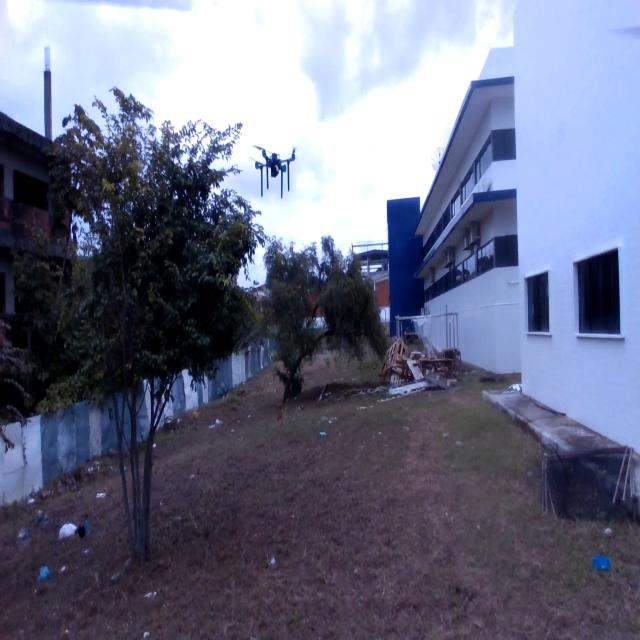-uav-: (247, 141, 300, 197)
